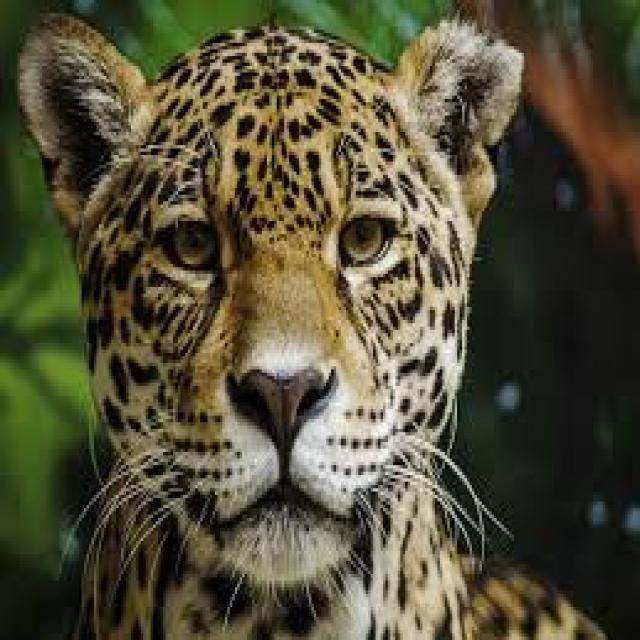Jaguar: (7, 6, 612, 640)
